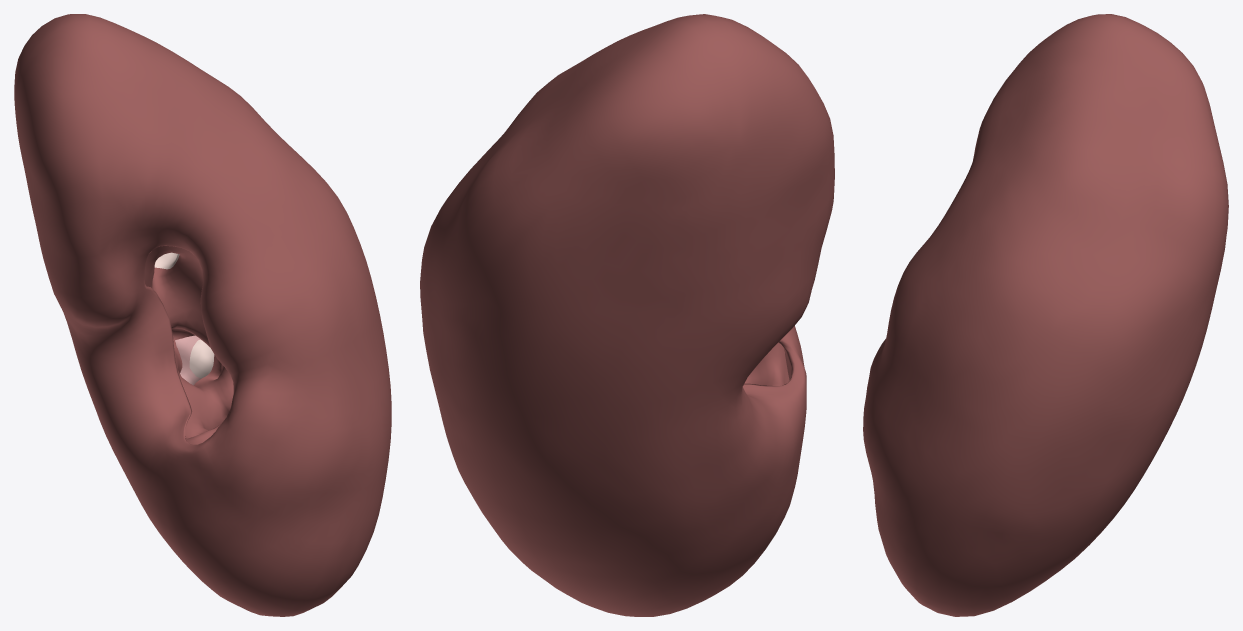
The model's file is kidney-left-female.glb.
The picture shows the model from 3 angles, left to right: view 1: azimuth 30°, elevation 25°; view 2: azimuth 150°, elevation 25°; view 3: azimuth 270°, elevation 25°; orthographic projection. The views are drawn at different scales.
Visible parts, largest first — view 1: VH_F_kidney_capsule_L, VH_F_hilum_of_kidney_L, VH_F_renal_papilla_L_g, VH_F_renal_pyramid_L_g; view 2: VH_F_kidney_capsule_L, VH_F_hilum_of_kidney_L; view 3: VH_F_kidney_capsule_L.
Part boxes in pixels (x1,y1,x2,y2): VH_F_kidney_capsule_L: (14, 14, 391, 616); VH_F_hilum_of_kidney_L: (144, 246, 233, 444); VH_F_renal_papilla_L_g: (189, 339, 214, 378); VH_F_renal_pyramid_L_g: (175, 335, 201, 385); VH_F_kidney_capsule_L: (420, 14, 834, 616); VH_F_hilum_of_kidney_L: (744, 342, 789, 385); VH_F_kidney_capsule_L: (863, 14, 1228, 616).
Size of the model in its own units: 0.0731 by 0.1249 by 0.0776.
